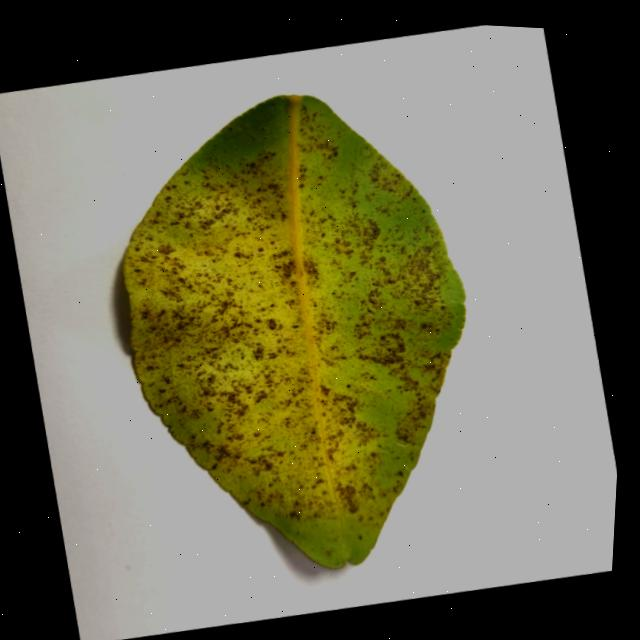melanose: (123, 96, 464, 568)
